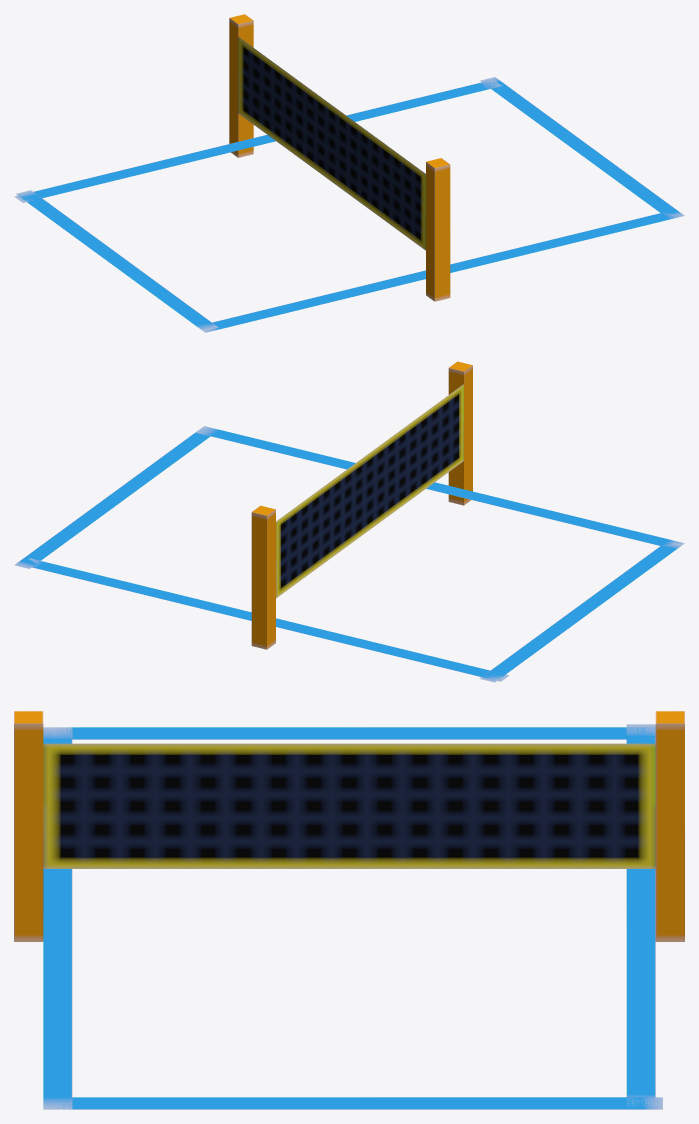
File: beach-volley.gltf
3 renders of one model, top to bottom at view 1: azimuth 30°, elevation 25°; view 2: azimuth 150°, elevation 25°; view 3: azimuth 270°, elevation 25°, orthographic. The views are drawn at different scales.
Size of the model in its own units: 31.25 by 8.25 by 23.
1 material, 1 textured.
